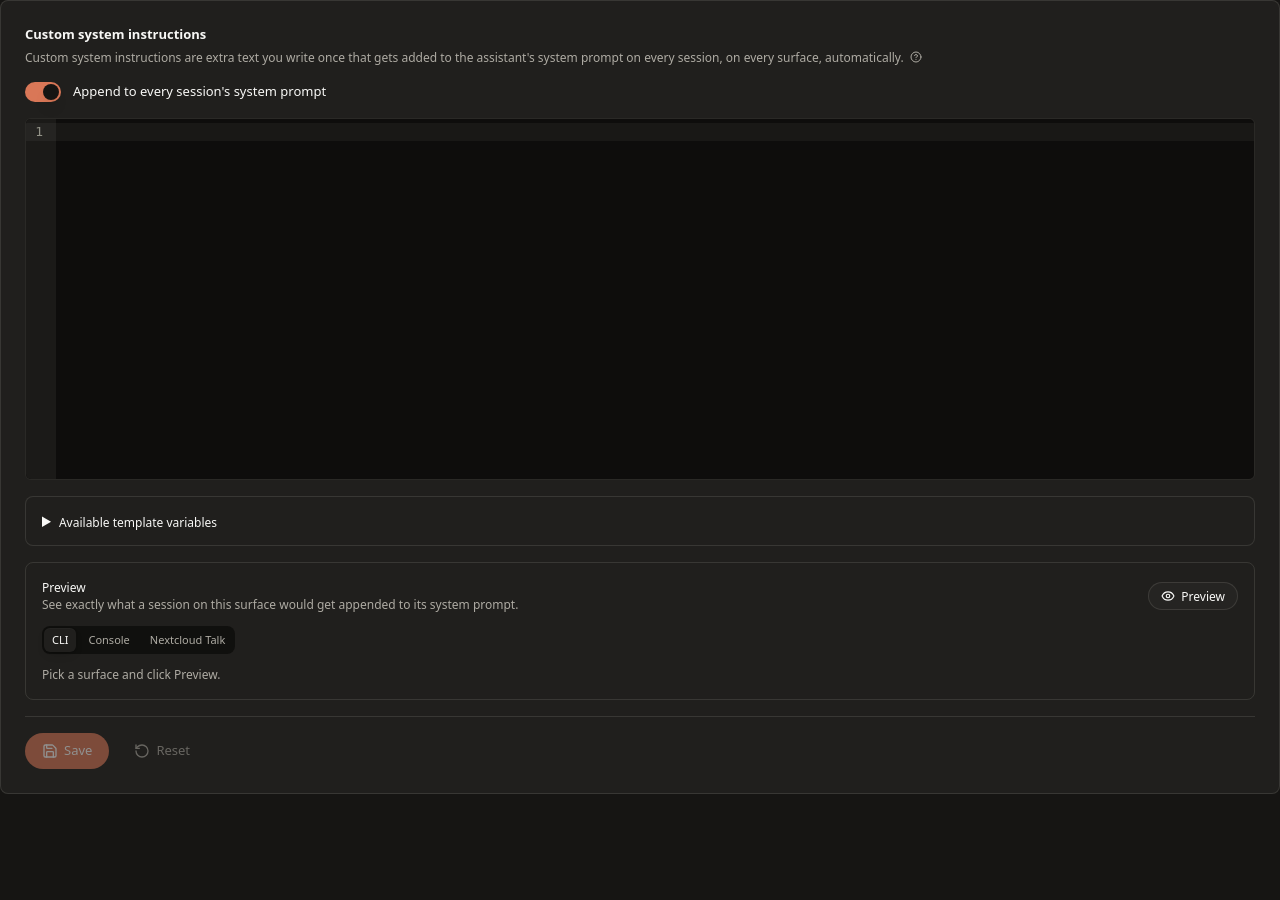
Test case: SystemInstructionsPane variable values › a short list renders every value as a chip, labelled by its kind
Click the heading "Available template variables": (138, 522) [59,514,217,531]
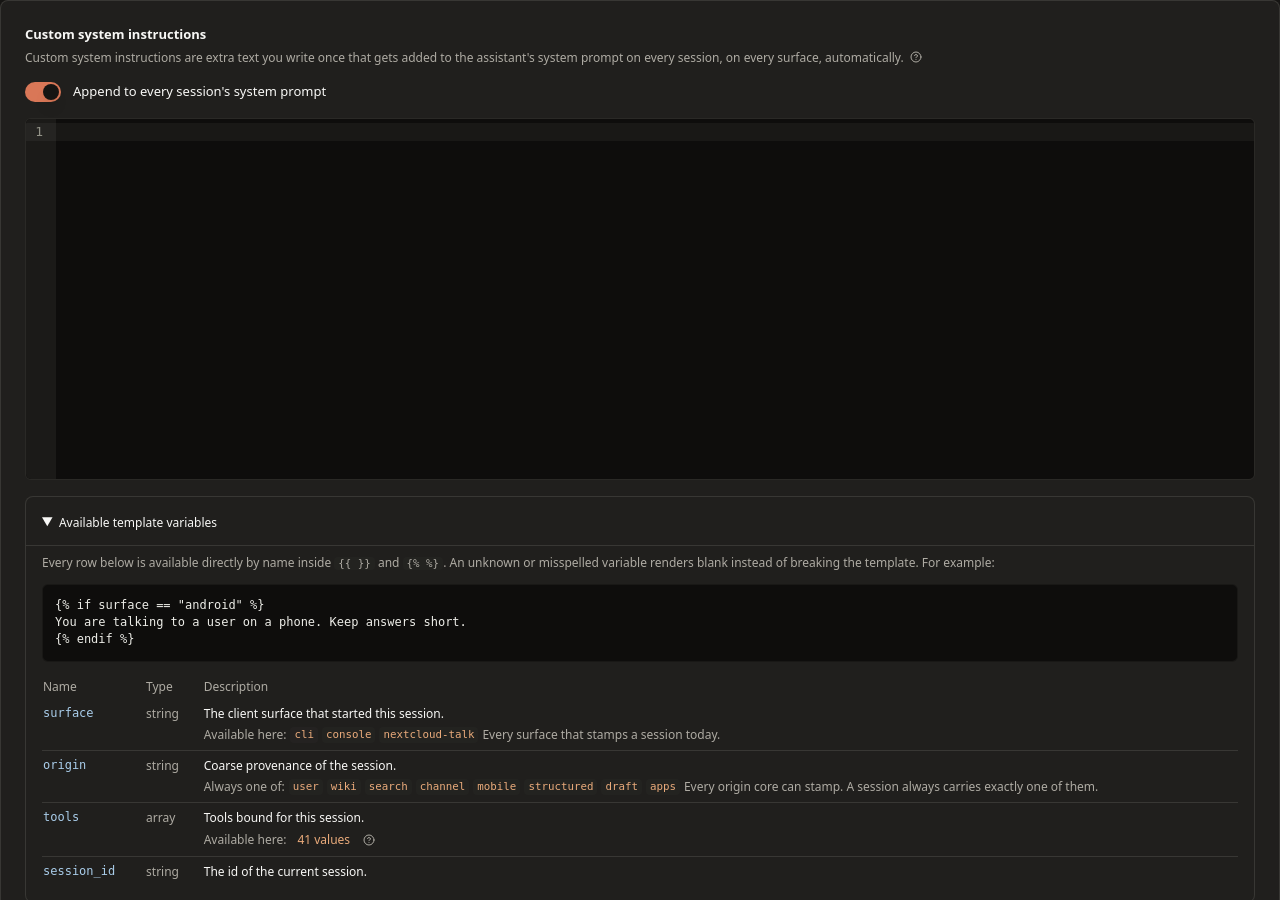
Now the text "Always one of:" is shown, box [204,778,285,796]
Now the button "user" is shown, box [289,779,323,795]
Now the button "wiki" is shown, box [327,779,361,795]
